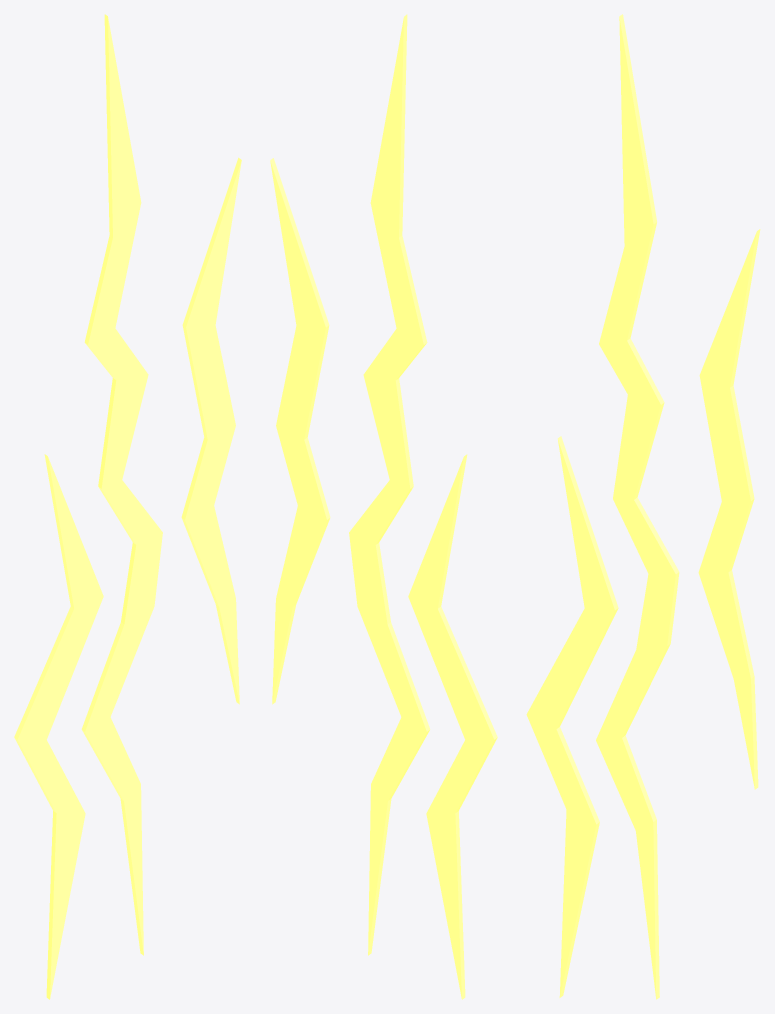
File: Lightning.fbx
The picture shows the model from 3 angles, left to right: view 1: azimuth 30°, elevation 25°; view 2: azimuth 150°, elevation 25°; view 3: azimuth 330°, elevation 25°; orthographic projection. The views are drawn at different scales.
Visible parts, largest first — view 1: Plane.001, Plane.002, Plane; view 2: Plane.001, Plane.002, Plane; view 3: Plane.001, Plane, Plane.002.
Boxes of the visible parts, x1,y1,x2,y2 form: Plane.001: [81, 14, 162, 955]; Plane.002: [181, 157, 241, 704]; Plane: [14, 454, 103, 999]; Plane.001: [349, 14, 430, 955]; Plane.002: [270, 158, 330, 704]; Plane: [408, 454, 497, 999]; Plane.001: [596, 14, 679, 999]; Plane: [526, 436, 618, 997]; Plane.002: [698, 229, 760, 789].
Bounding box in the file's own units: 1497 × 6184 × 40.
